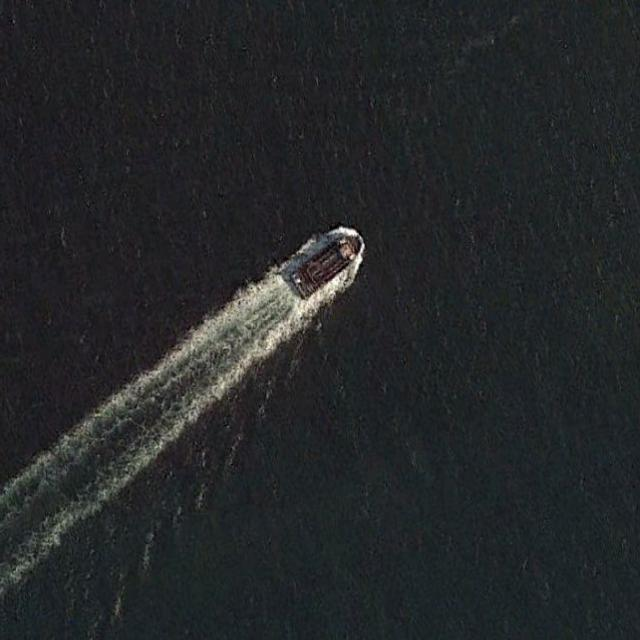ship: (286, 230, 366, 304)
